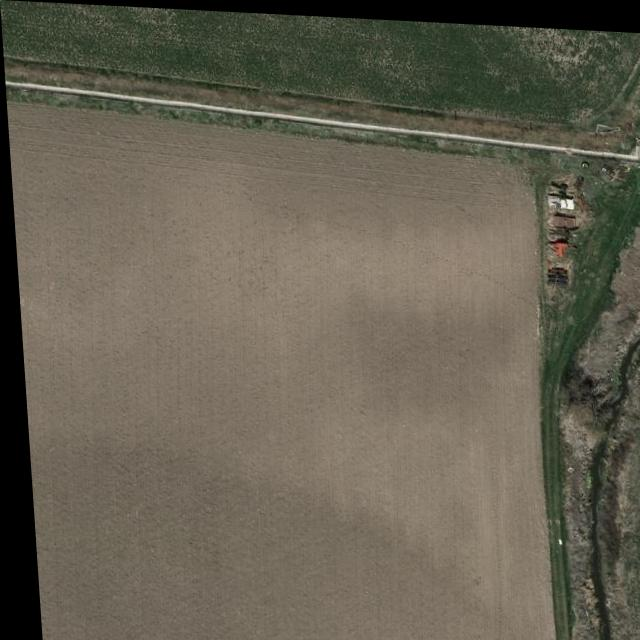vehicle: (543, 189, 574, 205)
